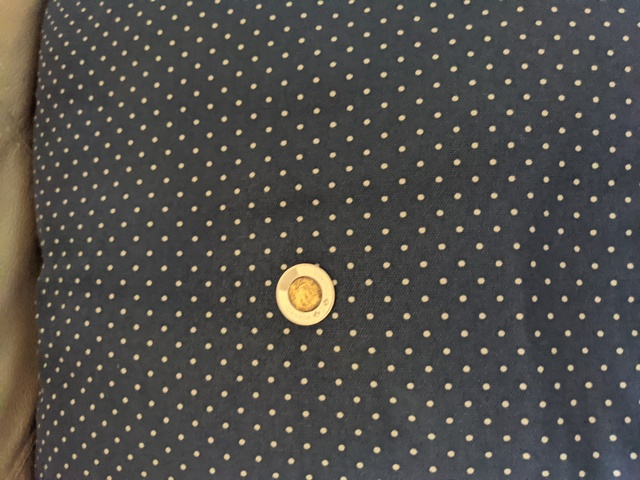twonie: (265, 263, 345, 332)
